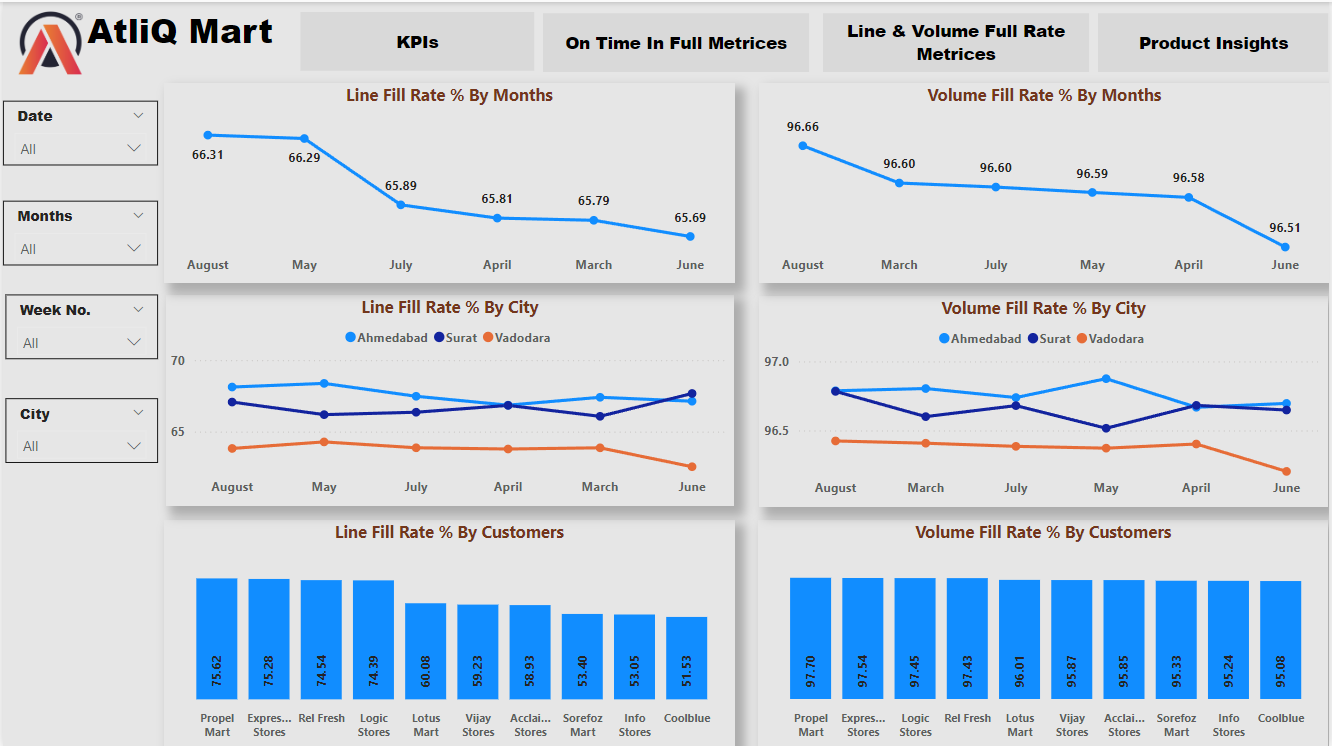

Layout of this report page (visuals, bound fields, positions):
{"tool":"powerbi","page":{"name":"line and volume full rate metrices","canvas":[1280,720],"ordinal":2},"visuals":[{"type":"textbox","box":[9.7,0,290.8,78.4],"z":0},{"type":"image","box":[10,0,74,78.2],"z":1000},{"type":"slicer","fields":{"Values":["dim_date.date"]},"box":[0,95.3,149.6,62.7],"z":2000},{"type":"slicer","fields":{"Values":["dim_date.mmm_yy.Variation.Date Hierarchy.Month"]},"box":[0,191.8,149.6,62.7],"z":3000},{"type":"slicer","fields":{"Values":["dim_date.week_no"]},"box":[2.4,282.3,147.2,62.7],"z":4000},{"type":"slicer","fields":{"Values":["dim_customers.city"]},"box":[2.4,382.4,147.2,62.7],"z":5000},{"type":"actionButton","box":[287.1,9.7,225.6,56.7],"z":6000},{"type":"actionButton","box":[521.2,10.9,257,56.7],"z":7000},{"type":"actionButton","box":[791.4,10.9,257,56.7],"z":8000},{"type":"actionButton","box":[1056.8,10.9,223.2,56.7],"z":9000},{"type":"lineChart","title":"Line Fill Rate % By  Months","fields":{"Y":["fact_order_lines.Line Fill Rate %"],"Category":["dim_date.Month Name"]},"box":[155.6,78.4,550.1,193],"z":10000},{"type":"lineChart","title":"Volume Fill Rate % By  Months","fields":{"Category":["dim_date.Month Name"],"Y":["fact_order_lines.Volume Fill Rate %"]},"box":[729.9,78.4,550.1,193],"z":11000},{"type":"lineChart","title":"Line Fill Rate % By City","fields":{"Category":["dim_date.Month Name"],"Series":["dim_customers.city"],"Y":["fact_order_lines.Line Fill Rate %"]},"box":[156.8,282.3,548.9,203.9],"z":12000},{"type":"lineChart","title":"Volume Fill Rate % By City","fields":{"Category":["dim_date.Month Name"],"Series":["dim_customers.city"],"Y":["fact_order_lines.Volume Fill Rate %"]},"box":[729.9,283.5,548.9,203.9],"z":13000},{"type":"lineClusteredColumnComboChart","title":"Line Fill Rate % By Customers","fields":{"Category":["dim_customers.customer_name"],"Y":["fact_order_lines.Line Fill Rate %"]},"box":[155.6,499.5,550.1,220.8],"z":14000},{"type":"lineClusteredColumnComboChart","title":"Volume Fill Rate % By Customers","fields":{"Category":["dim_customers.customer_name"],"Y":["fact_order_lines.Volume Fill Rate %"]},"box":[728.2,499.2,550.4,220.4],"z":15000}]}

Visuals, with their boxes in screenshot pixels (x1, y1, x2, y2), scaled from the page's 1280x720 canvas onto the 1332x746 screenshot:
textbox: box=[10, 0, 313, 81]
image: box=[10, 0, 87, 81]
slicer - dim_date.date: box=[0, 99, 156, 164]
slicer - dim_date.mmm_yy.Variation.Date Hierarchy.Month: box=[0, 199, 156, 264]
slicer - dim_date.week_no: box=[2, 292, 156, 357]
slicer - dim_customers.city: box=[2, 396, 156, 461]
actionButton: box=[299, 10, 534, 69]
actionButton: box=[542, 11, 810, 70]
actionButton: box=[824, 11, 1091, 70]
actionButton: box=[1100, 11, 1331, 70]
"Line Fill Rate % By  Months" lineChart: box=[162, 81, 734, 281]
"Volume Fill Rate % By  Months" lineChart: box=[760, 81, 1331, 281]
"Line Fill Rate % By City" lineChart: box=[163, 292, 734, 504]
"Volume Fill Rate % By City" lineChart: box=[760, 294, 1331, 505]
"Line Fill Rate % By Customers" lineClusteredColumnComboChart: box=[162, 518, 734, 745]
"Volume Fill Rate % By Customers" lineClusteredColumnComboChart: box=[758, 517, 1331, 745]
